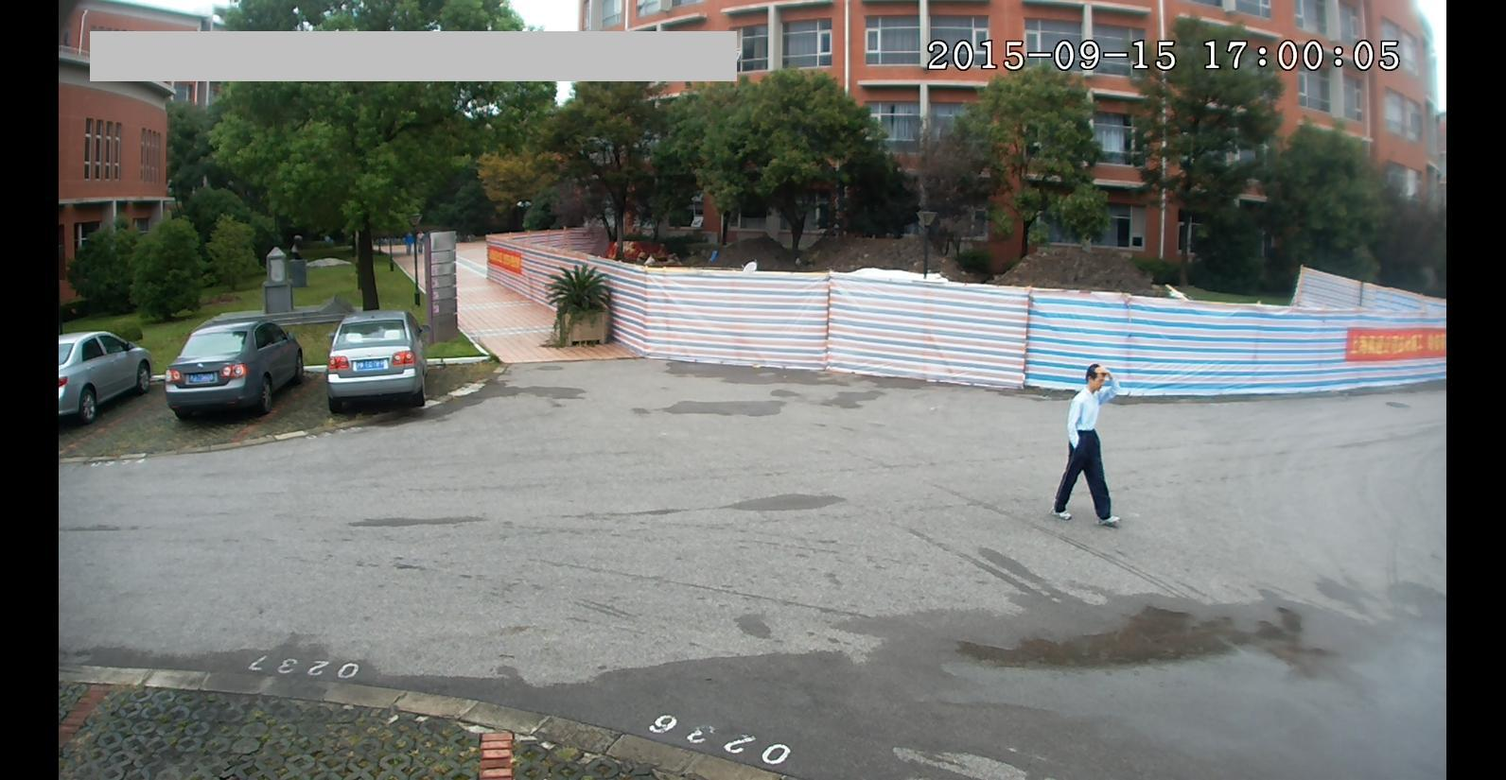person: (1054, 361, 1129, 534)
